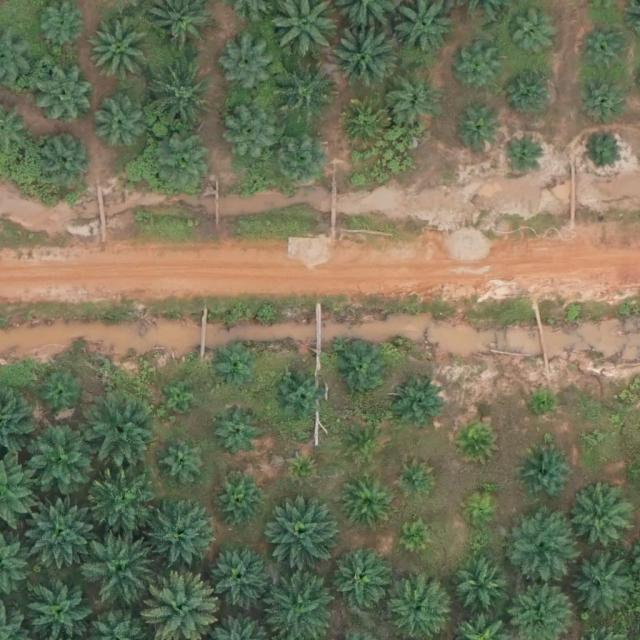Healthy: (89, 470, 160, 541), (84, 397, 155, 468), (25, 425, 96, 496), (25, 499, 96, 570), (331, 22, 402, 93), (506, 510, 576, 581), (268, 496, 338, 567), (149, 500, 219, 571), (84, 536, 154, 607), (144, 65, 214, 136), (572, 490, 635, 553), (330, 547, 393, 610), (210, 546, 273, 609), (89, 19, 152, 82), (273, 61, 335, 124), (32, 61, 95, 123), (573, 557, 635, 619), (155, 136, 217, 198), (518, 446, 573, 501), (454, 559, 509, 614), (272, 369, 327, 424), (340, 476, 395, 531), (213, 473, 268, 528), (574, 74, 629, 129), (336, 98, 391, 153), (388, 77, 443, 132), (273, 134, 328, 189), (218, 39, 273, 94), (39, 129, 94, 184), (225, 105, 279, 161), (335, 341, 389, 396), (580, 23, 634, 78), (97, 99, 151, 154)
Small: (395, 383, 442, 431), (507, 12, 554, 60), (508, 67, 555, 115), (213, 410, 260, 457), (457, 47, 504, 94), (456, 109, 503, 156), (214, 345, 254, 385), (40, 375, 80, 415), (165, 442, 204, 482), (584, 132, 623, 172), (501, 135, 540, 174), (166, 383, 197, 414), (530, 392, 553, 416), (585, 432, 601, 448)
Yellow: (457, 421, 497, 460), (347, 425, 386, 464), (464, 496, 495, 528), (403, 523, 434, 554), (400, 465, 431, 496), (289, 456, 312, 479)
